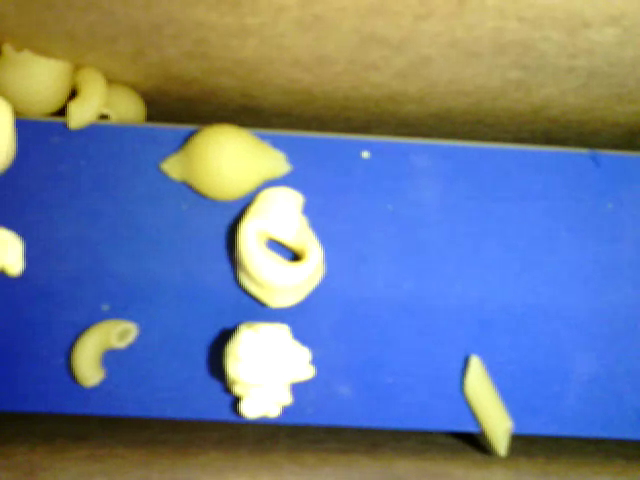elbow: (72, 319, 136, 387), (65, 68, 105, 129)
penne: (461, 353, 512, 453)
shell: (157, 123, 292, 199), (1, 44, 73, 119), (100, 83, 146, 126)
tortellini: (236, 187, 324, 308)
